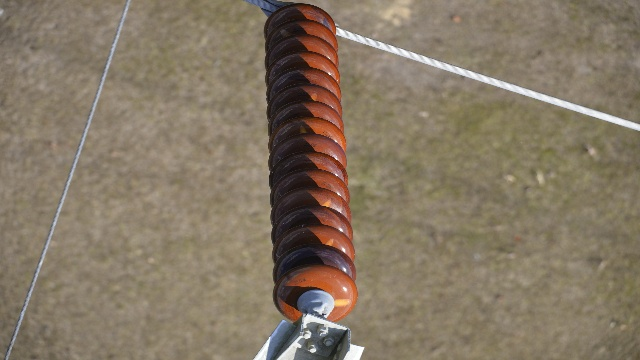insulator_unspecified: (262, 3, 357, 321)
pollution_flashover_local: (329, 298, 352, 310), (309, 92, 319, 103), (323, 199, 332, 210), (324, 238, 334, 247), (299, 125, 306, 135)
